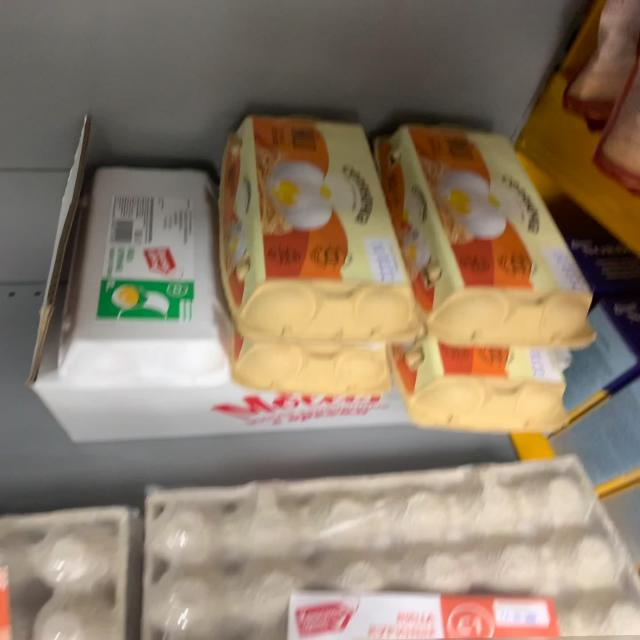egg box: (374, 116, 596, 344), (218, 115, 426, 341), (60, 165, 232, 386)
